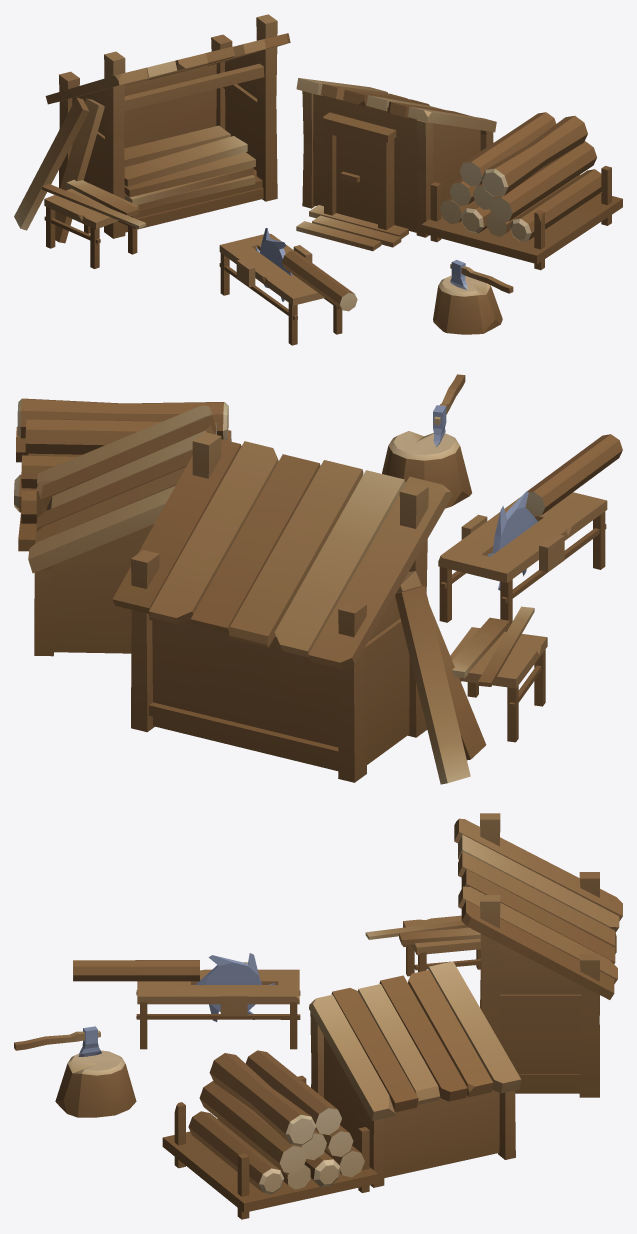
Rendered from Woodcutter.fbx.
3 renders of one model, top to bottom at view 1: azimuth 30°, elevation 25°; view 2: azimuth 150°, elevation 25°; view 3: azimuth 270°, elevation 25°, orthographic. The views are drawn at different scales.
Parts seen in each view (by area): view 1: WoodCutter_LOD0; view 2: WoodCutter_LOD0; view 3: WoodCutter_LOD0.
Boxes of the visible parts, x1,y1,x2,y2 form: WoodCutter_LOD0: (14,14,622,345); WoodCutter_LOD0: (14,374,622,784); WoodCutter_LOD0: (14,813,622,1219).
Size of what is drawn, in the model's own units: 10.97 by 4.02 by 11.19.
